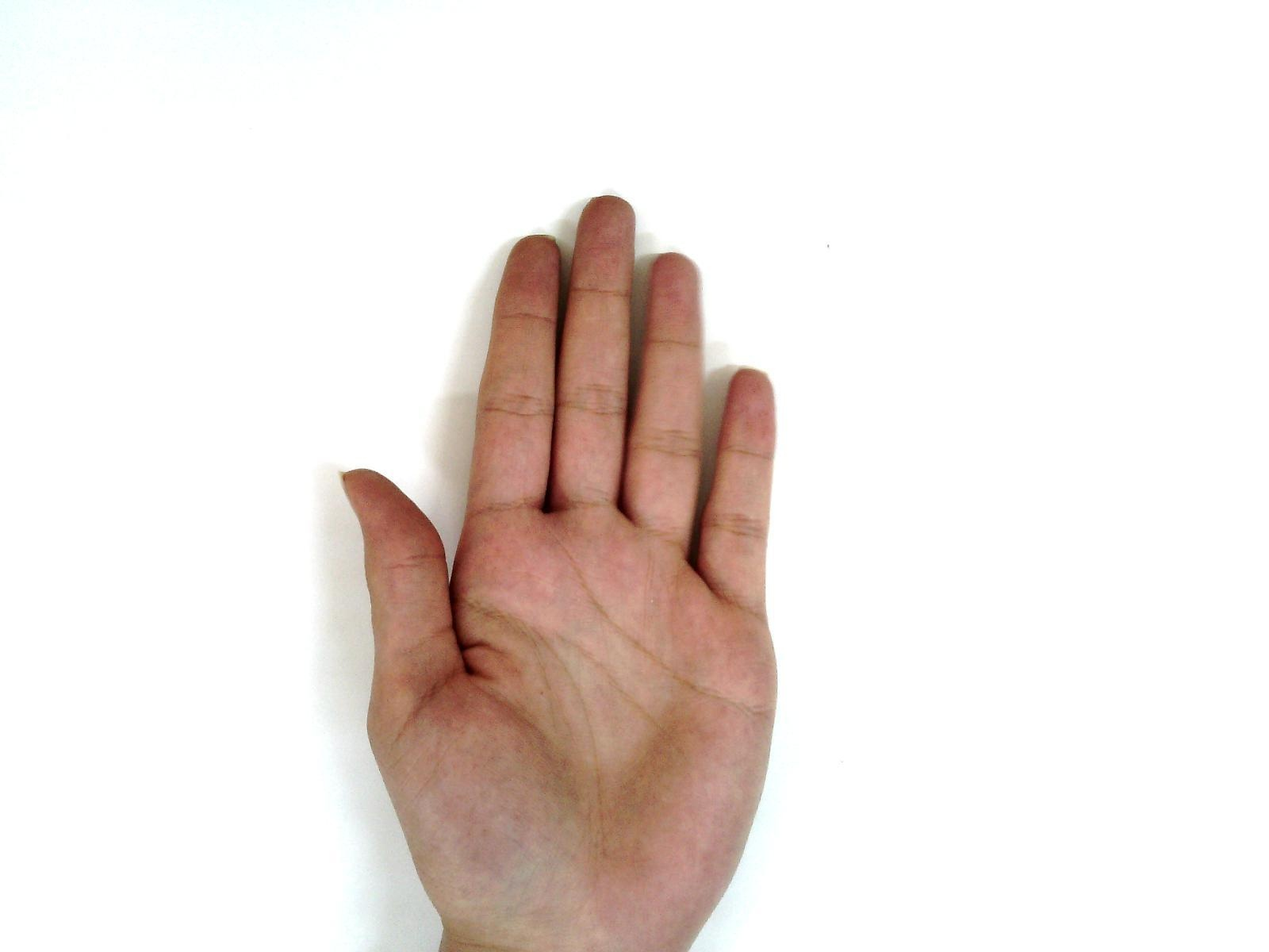open_palm: (339, 194, 784, 951)
